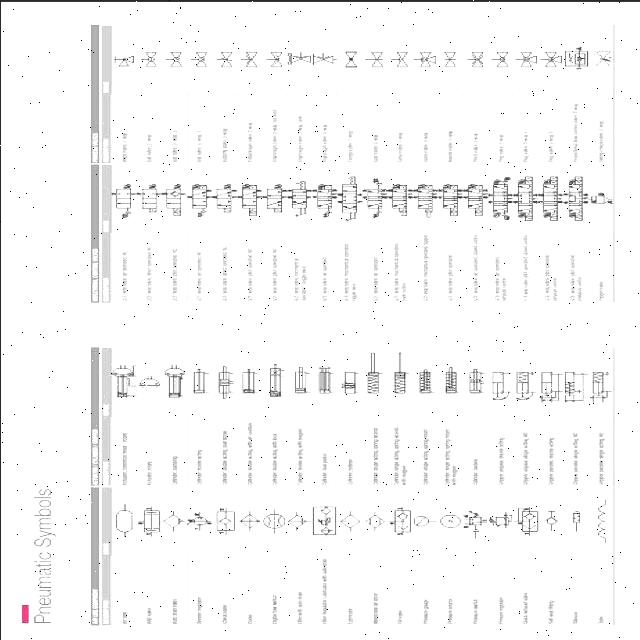Ball Valve: (135, 47, 159, 70)
Globe Valve: (340, 48, 360, 66)
Needle Valve: (212, 48, 235, 68), (366, 46, 386, 68), (437, 48, 457, 70)
